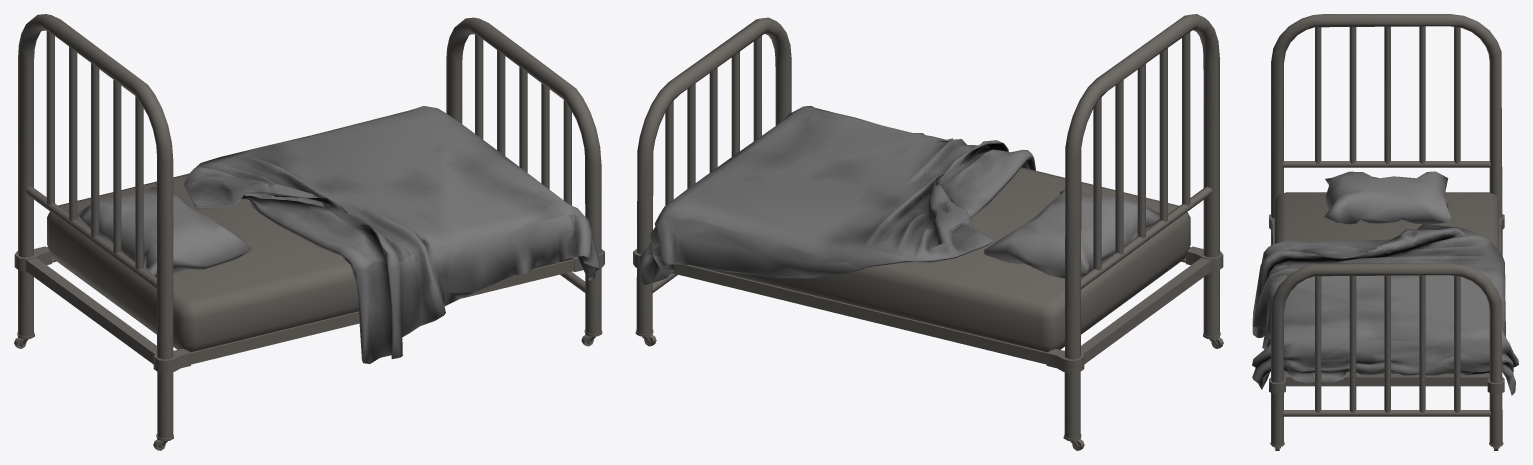
File: hosp-bed.lod0.glb
The picture shows the model from 3 angles, left to right: view 1: azimuth 30°, elevation 25°; view 2: azimuth 150°, elevation 25°; view 3: azimuth 270°, elevation 25°; orthographic projection. The views are drawn at different scales.
Visible parts, largest first — view 1: low_Pillow_1_pillow_0, low_Pillow_1_lagen_0; view 2: low_Pillow_1_pillow_0, low_Pillow_1_lagen_0; view 3: low_Pillow_1_pillow_0, low_Pillow_1_lagen_0.
Boxes of the visible parts, box(x1,y1,x2,y2) form: low_Pillow_1_pillow_0: box(14, 14, 604, 450); low_Pillow_1_lagen_0: box(184, 106, 599, 363); low_Pillow_1_pillow_0: box(633, 14, 1223, 450); low_Pillow_1_lagen_0: box(639, 106, 1035, 284); low_Pillow_1_pillow_0: box(1269, 14, 1504, 450); low_Pillow_1_lagen_0: box(1252, 223, 1518, 395).
Bounding box in the file's own units: 2.15 × 1.6 × 1.41.
2 materials, 1 textured.
